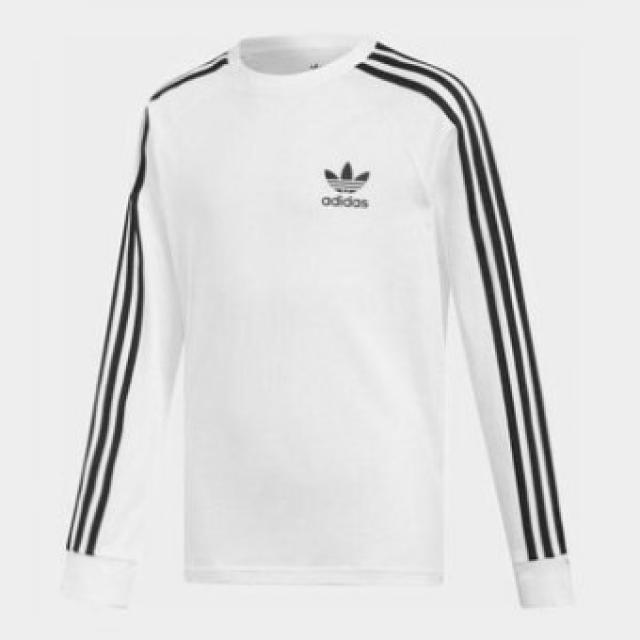Adidas: (320, 154, 372, 198)
